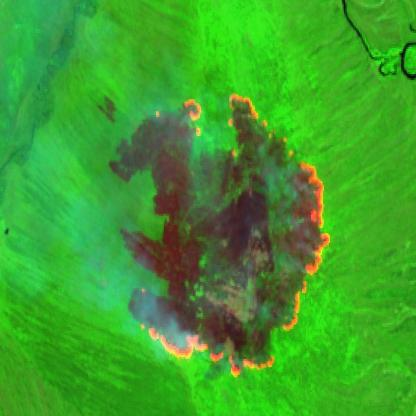fire: (124, 84, 336, 383)
